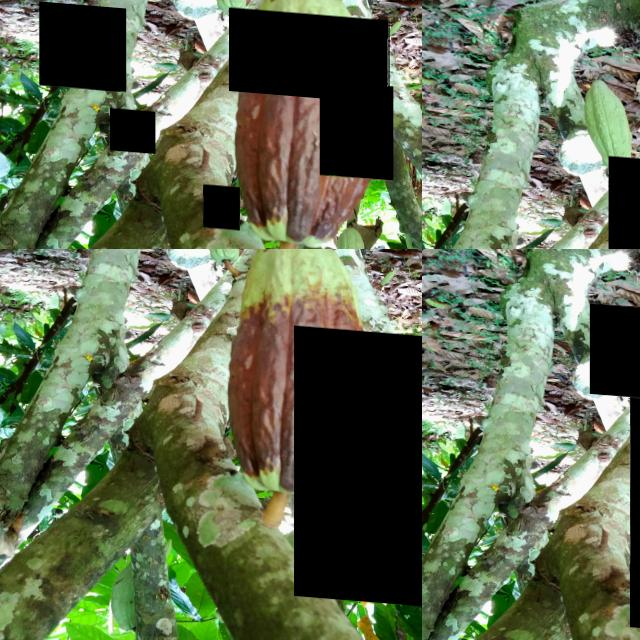Fitoftora: (110, 106, 155, 151), (203, 180, 240, 226)
Sana: (294, 320, 422, 599), (230, 4, 390, 97), (40, 1, 126, 90), (320, 75, 393, 174), (589, 299, 640, 393)
